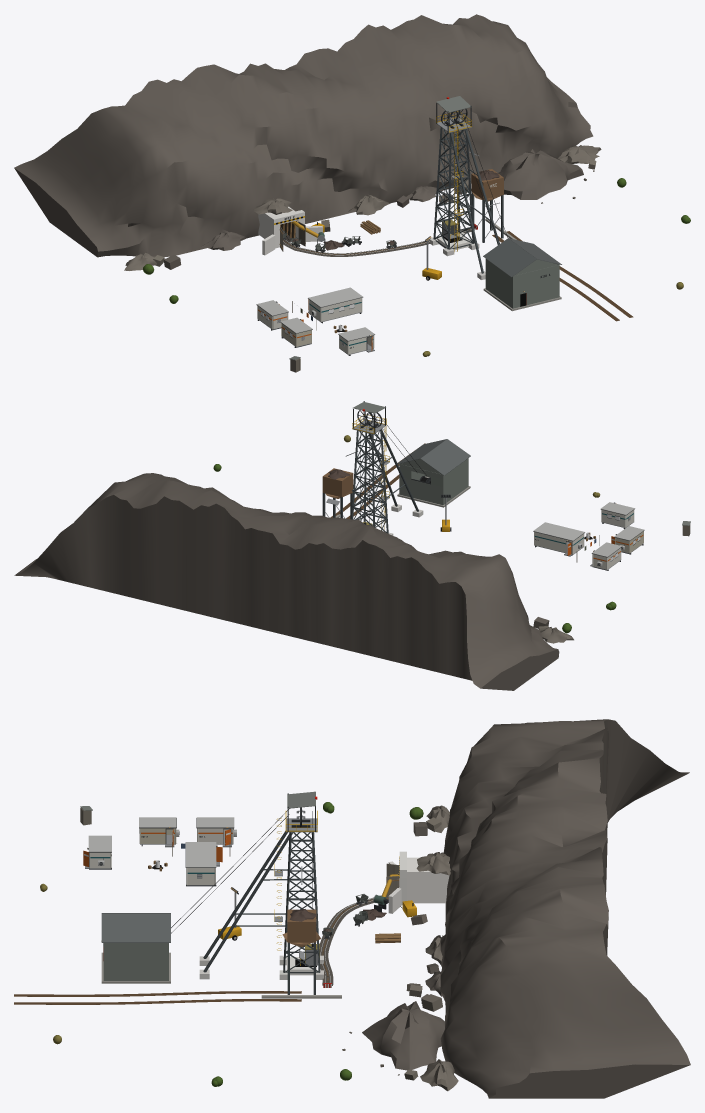
Rendered from mining-camp.glb.
3 renders of one model, top to bottom at view 1: azimuth 30°, elevation 25°; view 2: azimuth 150°, elevation 25°; view 3: azimuth 270°, elevation 25°, orthographic. The views are drawn at different scales.
Parts seen in each view (by area): view 1: C0_0_lod0, C0_-1_lod0, C-1_-1_lod0, C-1_0_lod0; view 2: C0_0_lod0, C0_-1_lod0, C-1_-1_lod0; view 3: C0_0_lod0, C0_-1_lod0, C-1_-1_lod0, C-1_0_lod0.
Boxes of the visible parts, x1,y1,x2,y2 form: C0_0_lod0: (14,14,633,321); C0_-1_lod0: (450,116,683,311); C-1_-1_lod0: (256,236,441,356); C-1_0_lod0: (163,198,471,269); C0_0_lod0: (14,401,573,690); C0_-1_lod0: (344,419,470,517); C-1_-1_lod0: (440,492,644,570); C0_0_lod0: (14,719,690,1098); C0_-1_lod0: (53,808,292,1044); C-1_-1_lod0: (40,817,241,940); C-1_0_lod0: (320,822,450,982).
Size of what is drawn, in the model's own units: 96 by 26.82 by 94.09.
